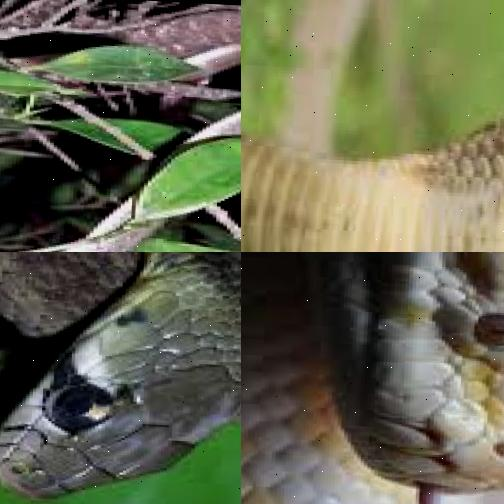snake: (241, 252, 504, 504), (0, 0, 241, 252), (0, 252, 241, 504), (241, 62, 504, 252)
